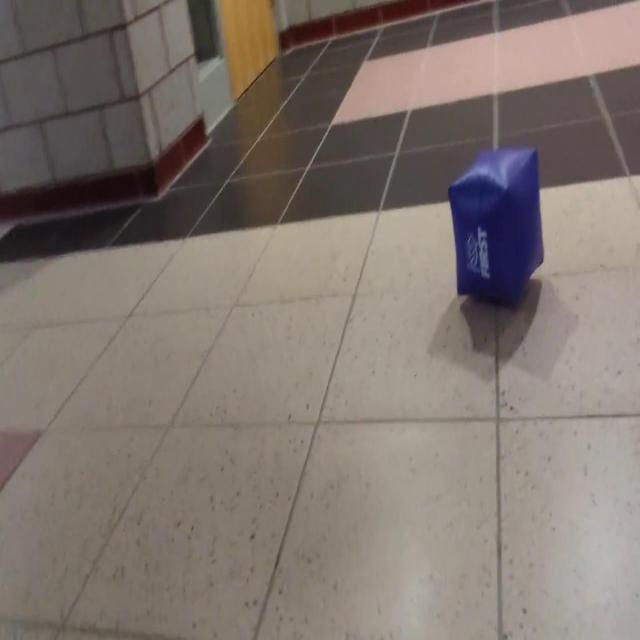frc_cube: (448, 143, 545, 309)
